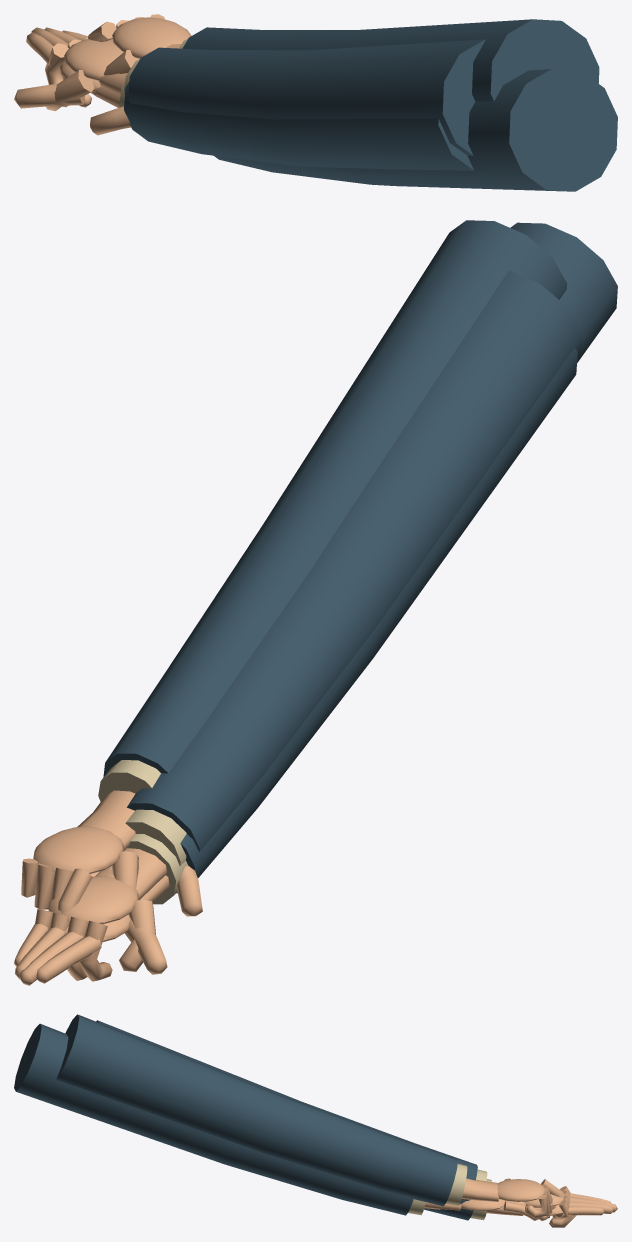
The model's file is hand.glb.
3 renders of one model, top to bottom at view 1: azimuth 30°, elevation 25°; view 2: azimuth 150°, elevation 25°; view 3: azimuth 270°, elevation 25°, orthographic. The views are drawn at different scales.
Visible parts, largest first — view 1: hand_grip, hand_open, hand_press, hand_pinch; view 2: hand_grip, hand_pinch, hand_press, hand_open; view 3: hand_pinch, hand_open, hand_grip, hand_press.
Boxes of the visible parts, bbox=[...] form: hand_grip: bbox=[45, 37, 485, 155]; hand_open: bbox=[90, 69, 617, 191]; hand_press: bbox=[14, 27, 473, 170]; hand_pinch: bbox=[88, 14, 599, 101]; hand_grip: bbox=[35, 270, 582, 981]; hand_pinch: bbox=[21, 220, 567, 913]; hand_press: bbox=[14, 347, 577, 985]; hand_open: bbox=[90, 222, 617, 916]; hand_pinch: bbox=[56, 1014, 563, 1219]; hand_open: bbox=[14, 1023, 549, 1220]; hand_grip: bbox=[96, 1020, 575, 1227]; hand_press: bbox=[424, 1179, 617, 1220].
Size of the model in its own units: 0.1797 by 0.3982 by 0.9951.
